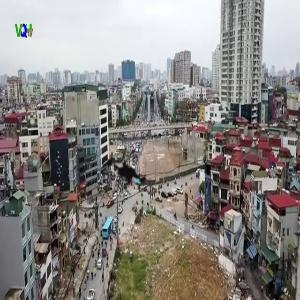drone: (87, 140, 160, 213)
